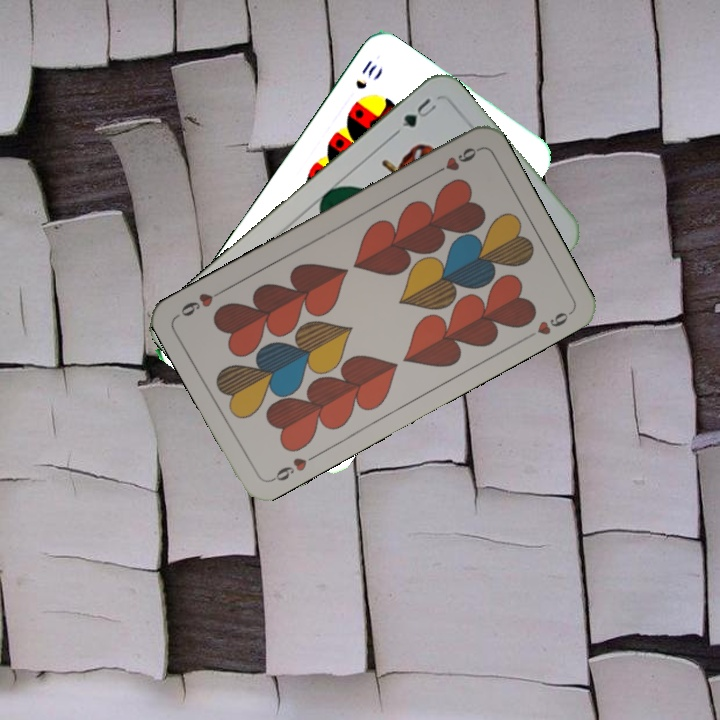GU: (391, 93, 439, 137)
H9: (428, 143, 482, 179), (266, 450, 320, 485)
S10: (351, 56, 380, 92)
